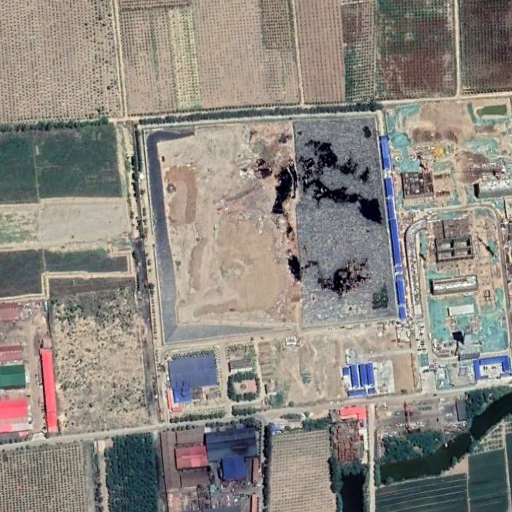lf: (144, 115, 398, 349)
